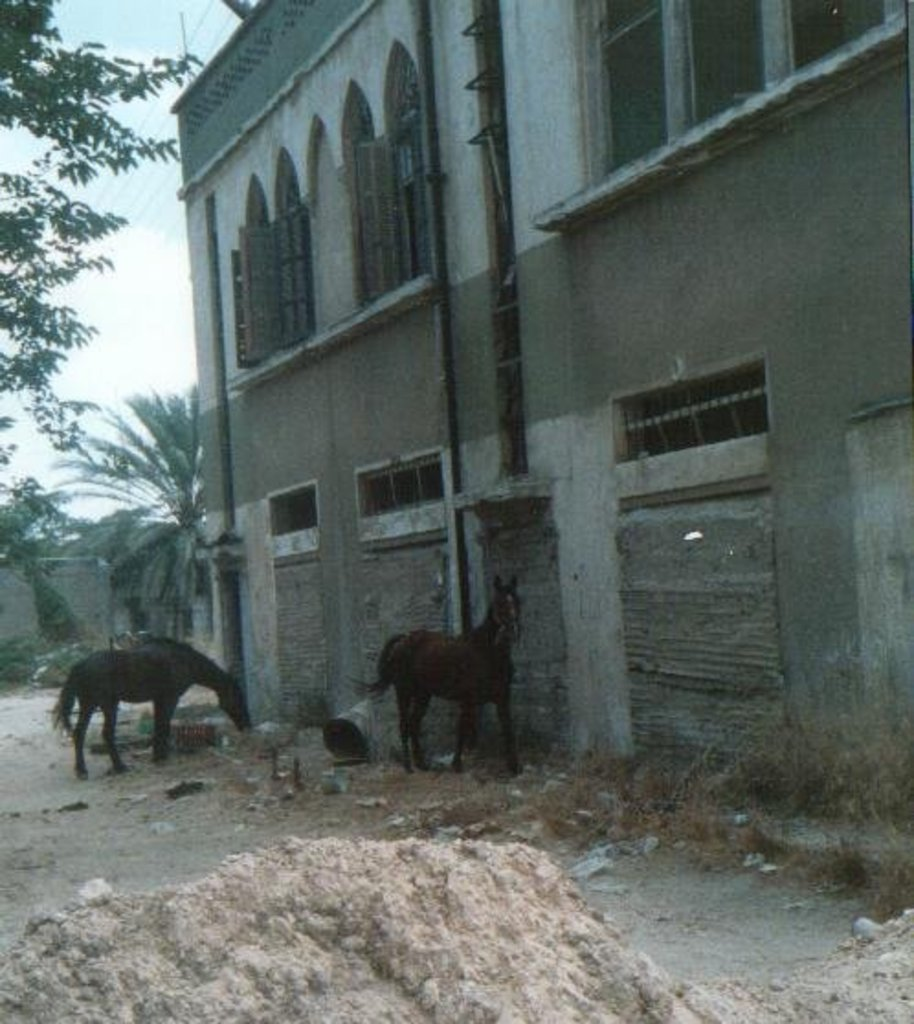horse: (352, 568, 526, 779), (49, 636, 256, 783)
